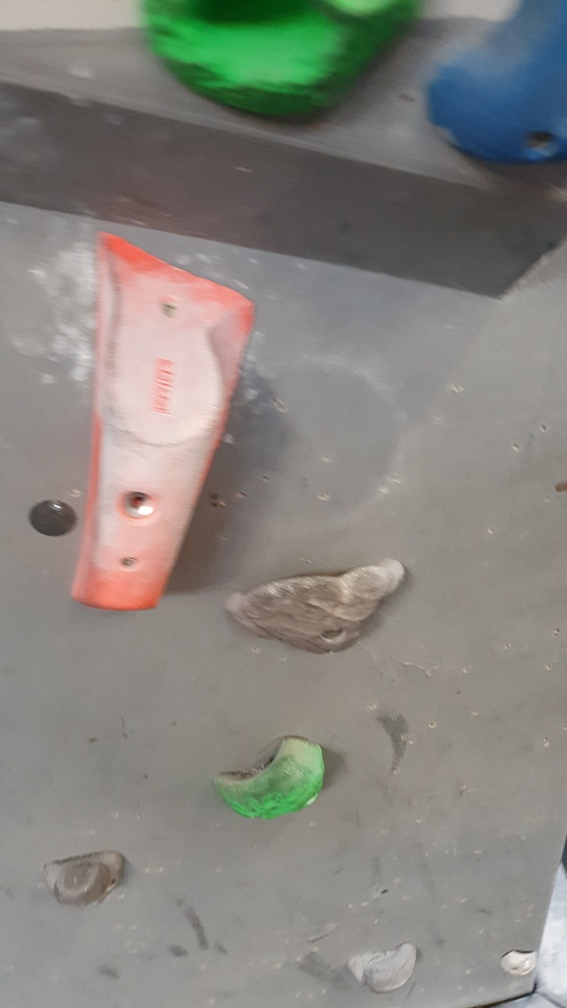Hand Start: (26, 495, 82, 540)
Jug: (220, 557, 407, 661), (213, 730, 331, 821)
Pinch: (66, 230, 255, 615)
